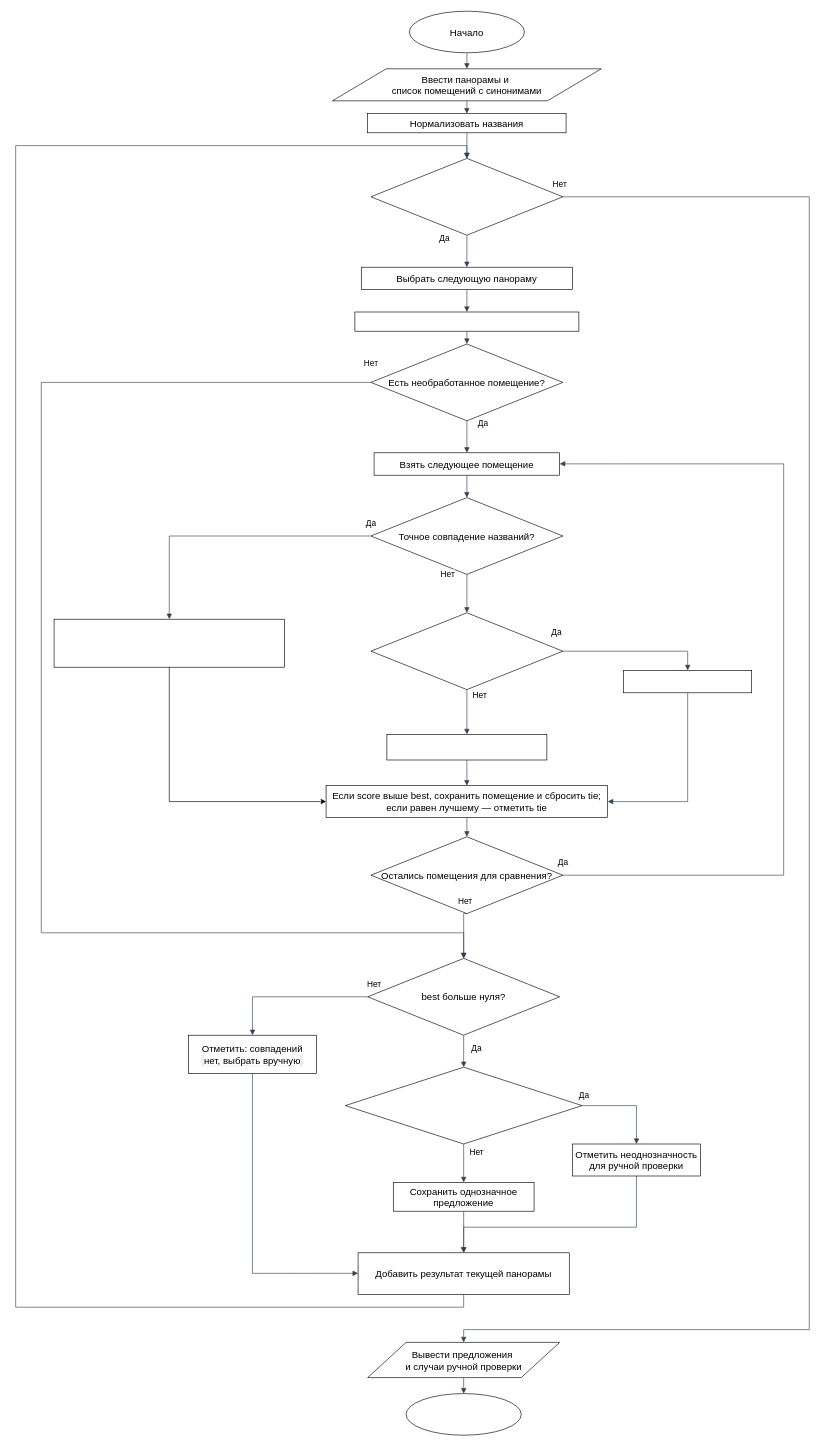
This 826x1446 diagram has some shape labels left out. The shapes that lost their labels are listed below. From the top down, each one's centre as x and y in pixels, then its label:
At point (466, 196): "Есть необработанная панорама?".
At point (466, 321): "best = 0; candidate пуст; tie = false".
At point (168, 643): "Назначить score = 3".
At point (466, 651): "Совпадение с синонимом?".
At point (687, 681): "Назначить score = 2".
At point (466, 747): "Назначить score = 0".
At point (463, 1105): "Несколько помещений имеют лучший score?".
At point (463, 1414): "Конец".
